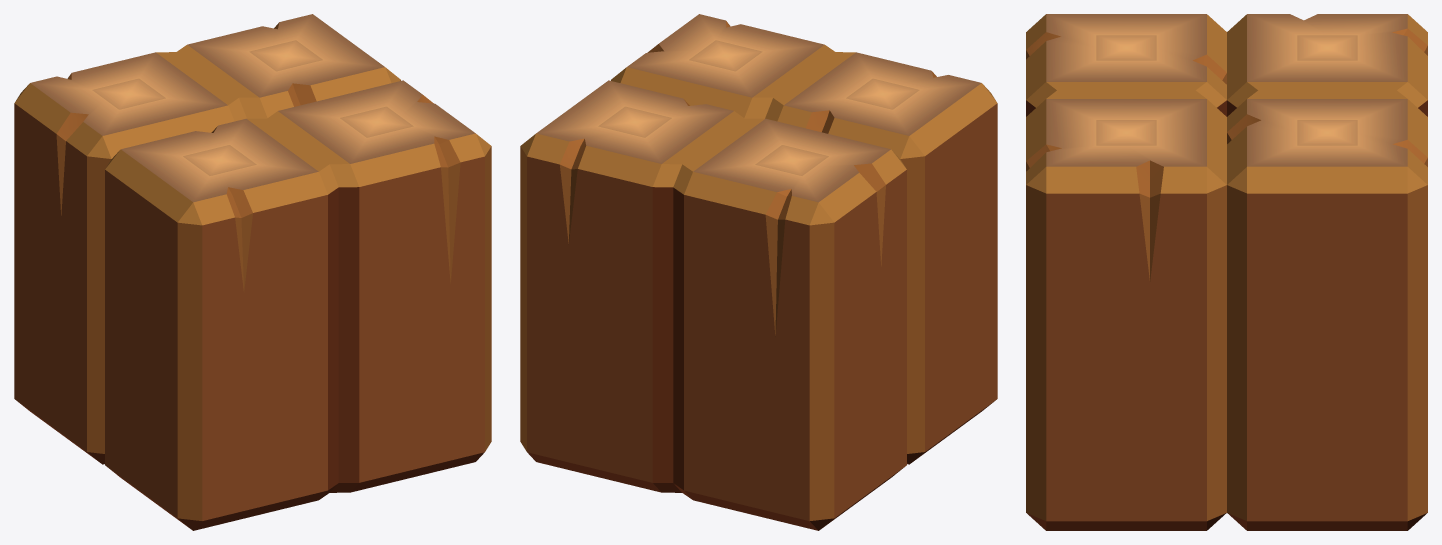
File: m_kub_wood_halfBigDouble.FBX
3 renders of one model, left to right at view 1: azimuth 30°, elevation 25°; view 2: azimuth 150°, elevation 25°; view 3: azimuth 270°, elevation 25°, orthographic. The views are drawn at different scales.
Visible parts, largest first — view 1: m_kub_wood_halfBigDouble; view 2: m_kub_wood_halfBigDouble; view 3: m_kub_wood_halfBigDouble.
Part boxes in pixels (left/top/right/bottom): m_kub_wood_halfBigDouble: left=14, top=14, right=491, bottom=530; m_kub_wood_halfBigDouble: left=520, top=14, right=997, bottom=530; m_kub_wood_halfBigDouble: left=1026, top=14, right=1427, bottom=530.
Bounding box in the file's own units: 2 × 2 × 2.
